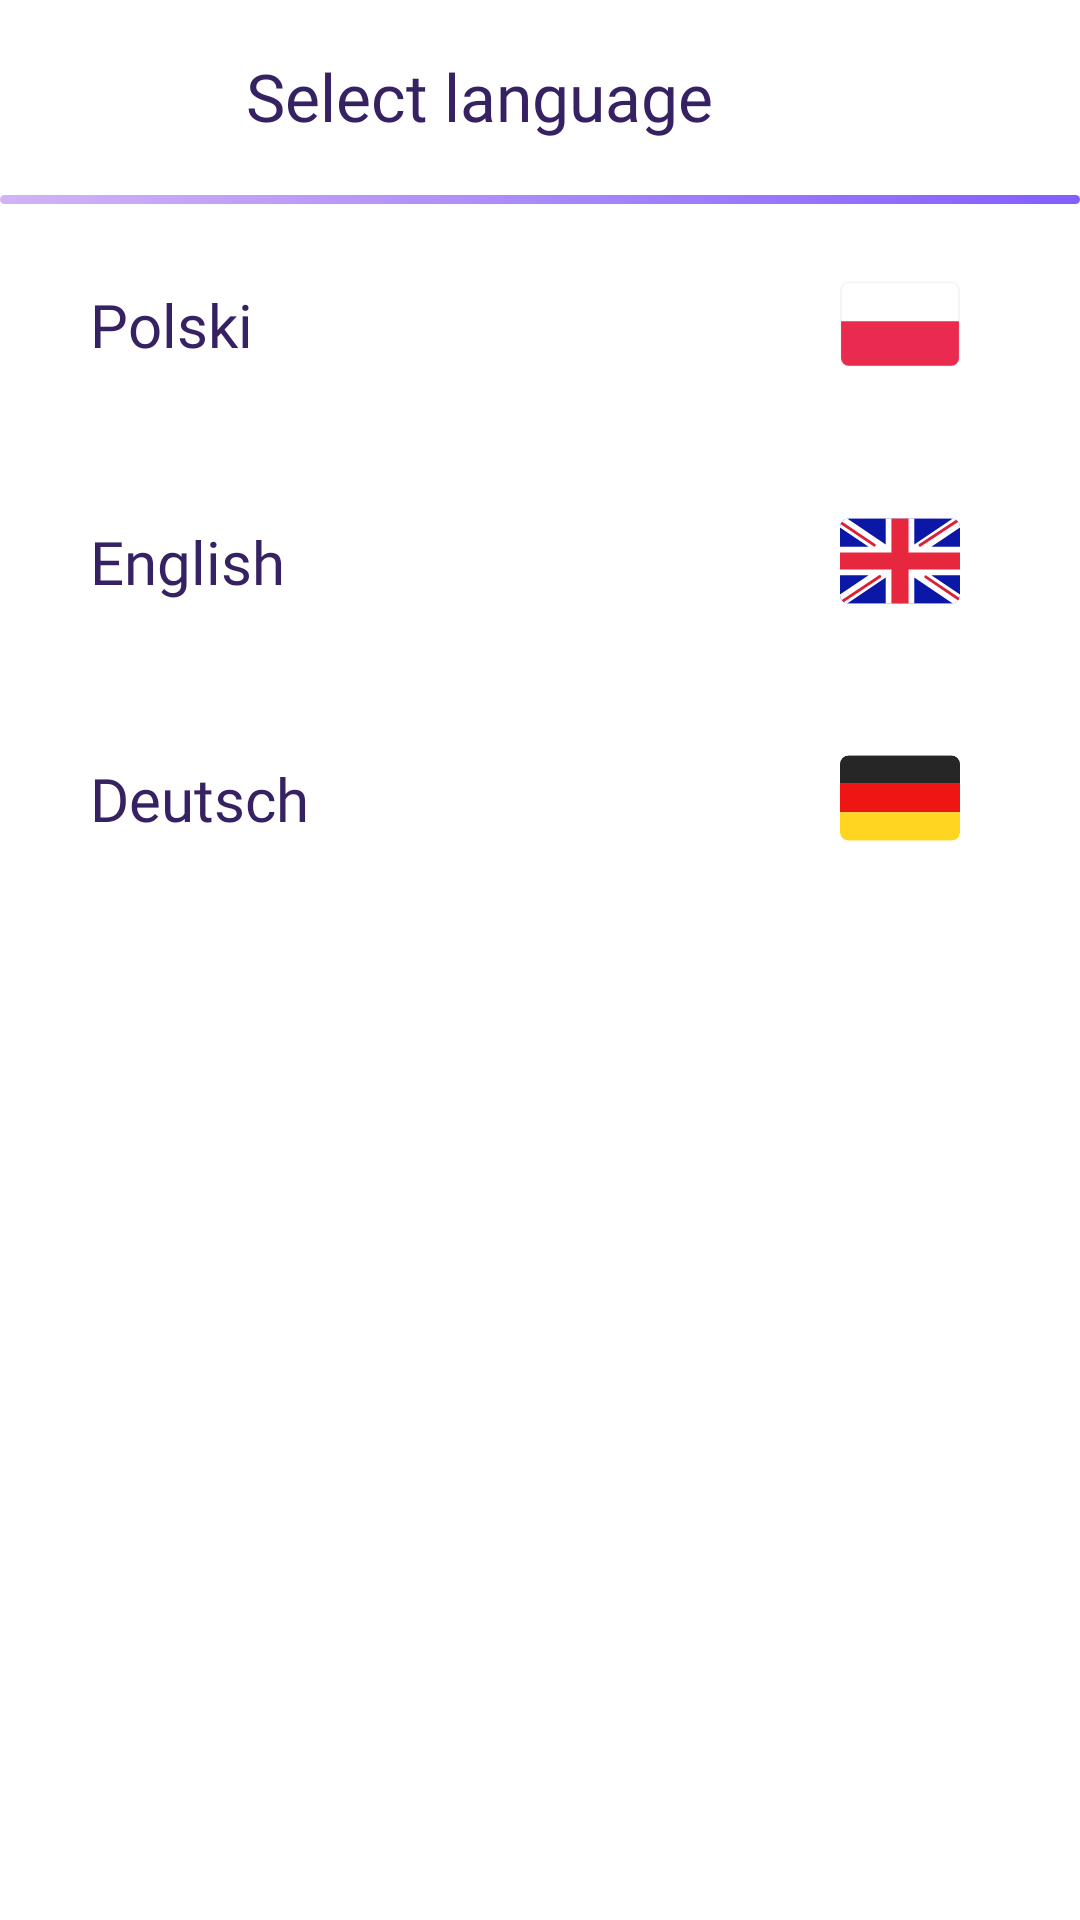

Point at icon controls on the screen. Image size 1080x1920, points as [x,y].
flag de: [900,798]
flag gb: [900,561]
